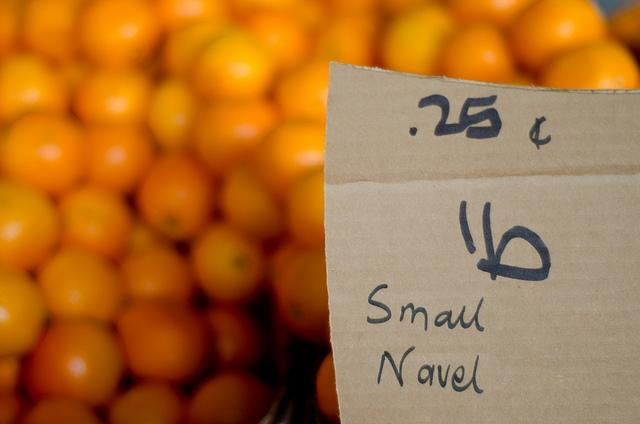orange: (28, 316, 126, 408), (0, 112, 90, 205), (116, 296, 210, 382), (502, 0, 606, 76), (34, 240, 127, 322), (193, 99, 286, 180), (138, 153, 218, 242), (72, 0, 168, 70), (190, 24, 276, 102), (378, 0, 466, 74), (188, 223, 268, 302), (0, 49, 74, 132), (56, 188, 136, 264), (270, 242, 330, 340), (162, 17, 236, 93), (1, 184, 62, 274), (232, 10, 314, 76), (71, 69, 157, 130), (84, 124, 156, 196), (256, 121, 326, 194), (223, 167, 284, 243), (442, 25, 520, 83), (190, 369, 272, 424), (274, 56, 331, 132), (147, 81, 206, 154), (21, 0, 87, 65), (1, 262, 46, 357), (203, 302, 264, 372), (550, 46, 640, 90), (110, 380, 187, 422), (318, 16, 381, 67), (288, 172, 325, 249), (155, 1, 229, 37), (451, 0, 531, 33), (20, 394, 101, 424), (260, 2, 331, 36), (128, 210, 174, 256), (608, 3, 638, 55), (317, 350, 340, 417), (384, 0, 441, 26), (0, 0, 21, 63), (332, 0, 377, 27), (0, 356, 27, 392), (0, 390, 28, 424)
